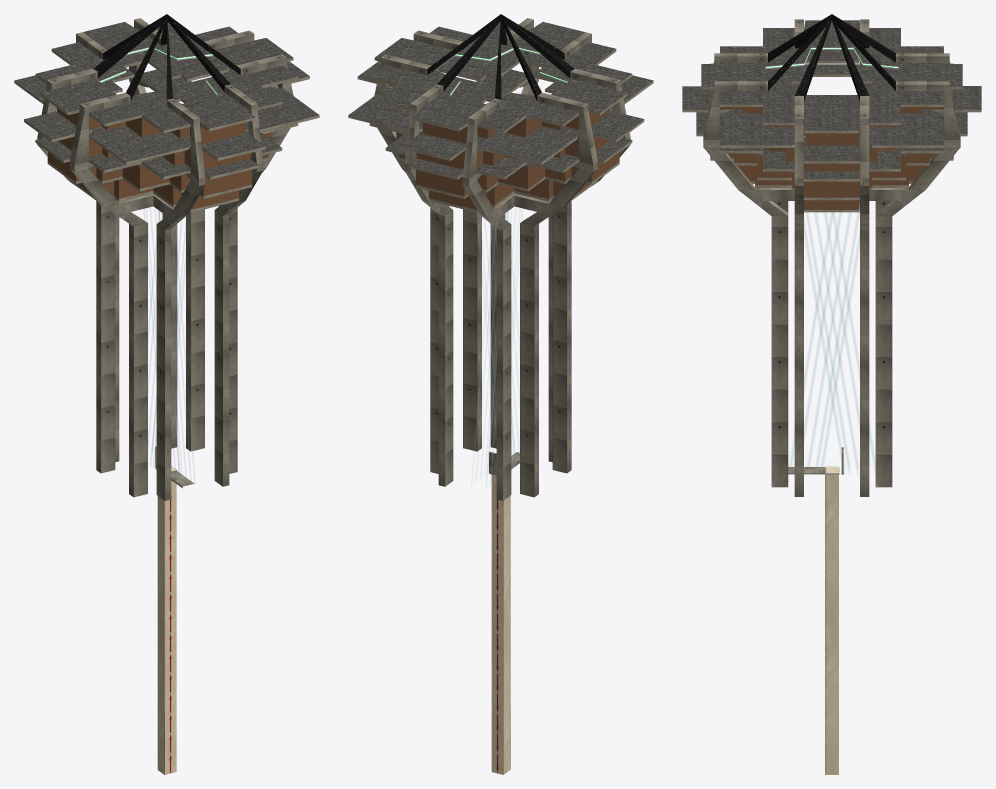
The model's file is entity16170.gltf.
3 views of the same model, side by side, from view 1: azimuth 30°, elevation 25°; view 2: azimuth 150°, elevation 25°; view 3: azimuth 270°, elevation 25° (orthographic).
Visible parts, largest first — view 1: node_Exhibit_Str_Tower_1_Art, node_Exhibit_Str_Tower_1_Floor_5, node_Exhibit_Str_Tower_1_Floor_4, node_Exhibit_Str_Tower_1_Glass, node_Elevator_Machine, node_Exhibit_Str_Tower_1_Floor_3, node_Elevator_Glasswall, node_Exhibit_Str_Tower_1_Floor_2; view 2: node_Exhibit_Str_Tower_1_Art, node_Exhibit_Str_Tower_1_Floor_5, node_Exhibit_Str_Tower_1_Floor_4, node_Exhibit_Str_Tower_1_Glass, node_Elevator_Machine, node_Exhibit_Str_Tower_1_Floor_3, node_Elevator_Glasswall, node_Exhibit_Str_Tower_1_Floor_2; view 3: node_Exhibit_Str_Tower_1_Art, node_Exhibit_Str_Tower_1_Floor_5, node_Exhibit_Str_Tower_1_Floor_4, node_Exhibit_Str_Tower_1_Glass, node_Elevator_Glasswall, node_Elevator_Machine, node_Exhibit_Str_Tower_1_Floor_3, node_Exhibit_Str_Tower_1_Floor_2, node_Exhibit_Str_Tower_1_Floor_1.
Part boxes in pixels (x1,y1,x2,y2): node_Exhibit_Str_Tower_1_Art: (37, 14, 293, 500); node_Exhibit_Str_Tower_1_Floor_5: (35, 22, 298, 133); node_Exhibit_Str_Tower_1_Floor_4: (14, 50, 319, 164); node_Exhibit_Str_Tower_1_Glass: (47, 108, 271, 209); node_Elevator_Machine: (157, 467, 176, 774); node_Exhibit_Str_Tower_1_Floor_3: (35, 67, 298, 179); node_Elevator_Glasswall: (150, 210, 181, 472); node_Exhibit_Str_Tower_1_Floor_2: (47, 133, 268, 198); node_Exhibit_Str_Tower_1_Art: (374, 14, 630, 500); node_Exhibit_Str_Tower_1_Floor_5: (369, 22, 632, 133); node_Exhibit_Str_Tower_1_Floor_4: (348, 50, 653, 164); node_Exhibit_Str_Tower_1_Glass: (396, 108, 619, 209); node_Elevator_Machine: (491, 474, 510, 774); node_Exhibit_Str_Tower_1_Floor_3: (369, 67, 632, 179); node_Elevator_Glasswall: (485, 211, 516, 474); node_Exhibit_Str_Tower_1_Floor_2: (399, 132, 619, 198); node_Exhibit_Str_Tower_1_Art: (703, 14, 960, 496); node_Exhibit_Str_Tower_1_Floor_5: (701, 20, 962, 133); node_Exhibit_Str_Tower_1_Floor_4: (682, 50, 981, 163); node_Exhibit_Str_Tower_1_Glass: (710, 107, 953, 209); node_Elevator_Glasswall: (789, 212, 875, 468); node_Elevator_Machine: (825, 467, 838, 774); node_Exhibit_Str_Tower_1_Floor_3: (696, 64, 967, 181); node_Exhibit_Str_Tower_1_Floor_2: (710, 95, 953, 200); node_Exhibit_Str_Tower_1_Floor_1: (750, 137, 913, 212).
Size of what is drawn, in the model's own units: 32.15 by 89.94 by 32.19.
Materials: 5 (4 with a texture image).
